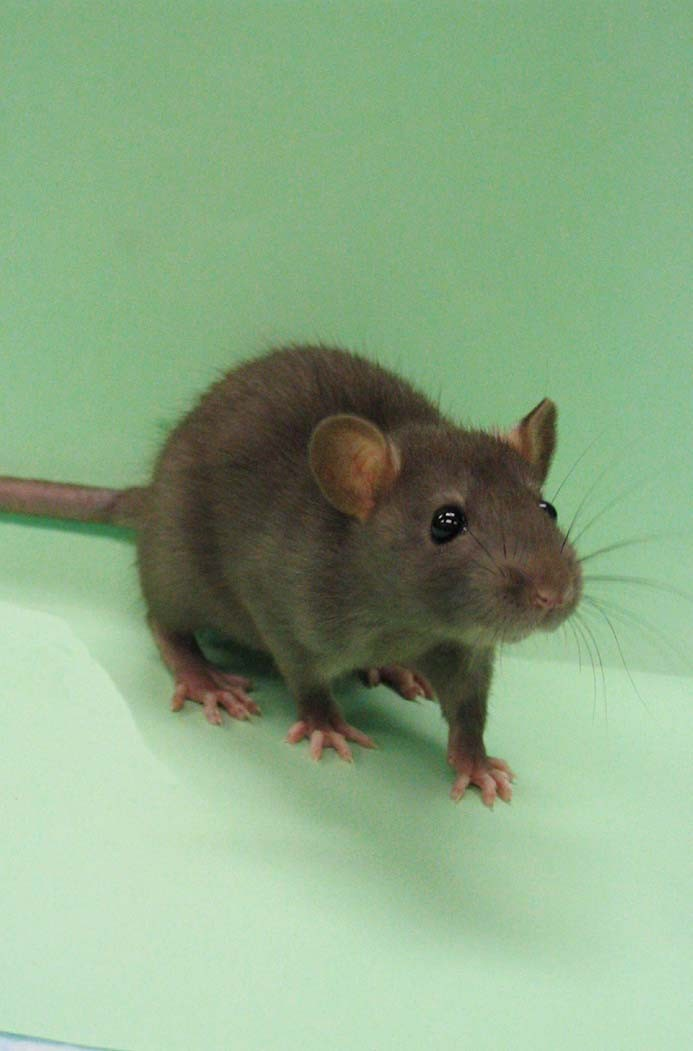Rat: (108, 294, 624, 831)
